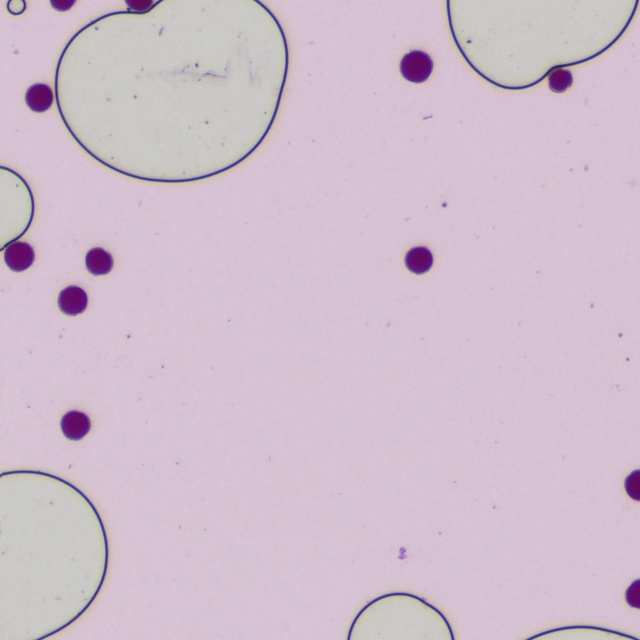viable: (401, 51, 432, 82), (62, 411, 90, 439), (59, 287, 87, 315), (5, 243, 34, 270), (86, 248, 112, 275), (406, 247, 432, 273), (27, 84, 52, 111), (549, 70, 572, 92), (626, 470, 639, 500), (125, 1, 159, 12), (627, 580, 639, 607)
